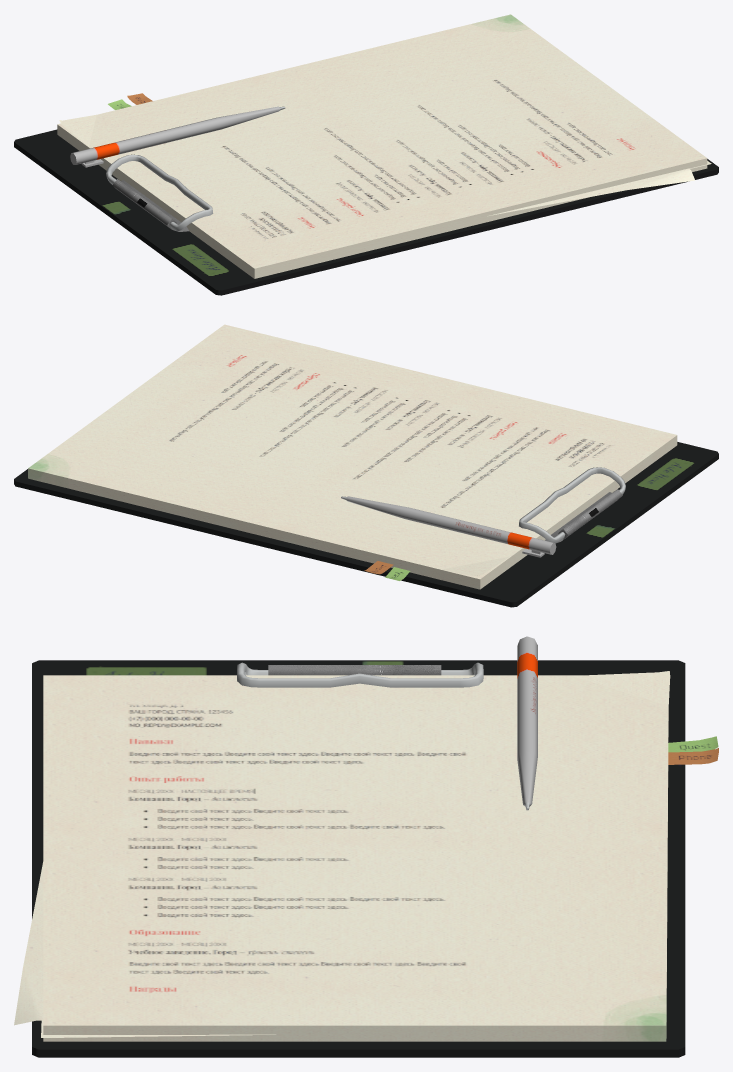
The model's file is tablet_folder.glb.
3 views of the same model, one above another, from view 1: azimuth 30°, elevation 25°; view 2: azimuth 150°, elevation 25°; view 3: azimuth 270°, elevation 25° (orthographic). The views are drawn at different scales.
Visible parts, largest first — view 1: StackOfPaper, Tablet, Pen, Paper, Pin; view 2: StackOfPaper, Tablet, Pen, Pin, Paper; view 3: StackOfPaper, Tablet, Paper, Pin, Pen.
Part boxes in pixels (x1,y1,x2,y2): StackOfPaper: [57, 14, 707, 278]; Tablet: [14, 129, 718, 295]; Pen: [70, 106, 285, 167]; Paper: [59, 93, 711, 216]; Pin: [106, 154, 213, 231]; StackOfPaper: [28, 324, 677, 589]; Tablet: [14, 442, 718, 607]; Pen: [341, 496, 556, 557]; Pin: [519, 467, 625, 543]; Paper: [312, 345, 509, 580]; StackOfPaper: [43, 675, 668, 1041]; Tablet: [32, 660, 685, 1057]; Paper: [14, 671, 718, 1037]; Pin: [237, 662, 483, 687]; Pen: [517, 636, 537, 810].
Size of the model in its own units: 31 by 1.57 by 23.74.
1 material, 1 textured.
